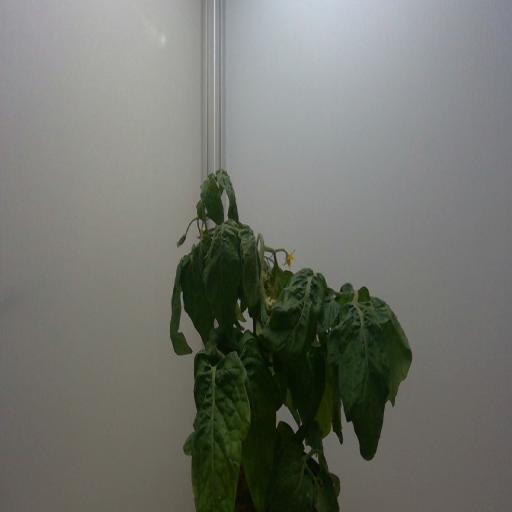Tomato-Leaves-Cupboard-: (333, 299, 394, 472), (189, 350, 246, 512), (253, 274, 338, 363), (235, 331, 274, 512), (370, 283, 416, 412), (286, 318, 326, 436), (205, 228, 239, 344), (186, 246, 219, 348), (167, 257, 194, 357), (239, 210, 261, 311), (281, 452, 314, 512), (322, 363, 345, 445), (217, 168, 245, 229), (198, 172, 225, 231), (312, 471, 339, 512), (266, 257, 292, 294), (277, 421, 303, 451), (196, 195, 208, 232)
